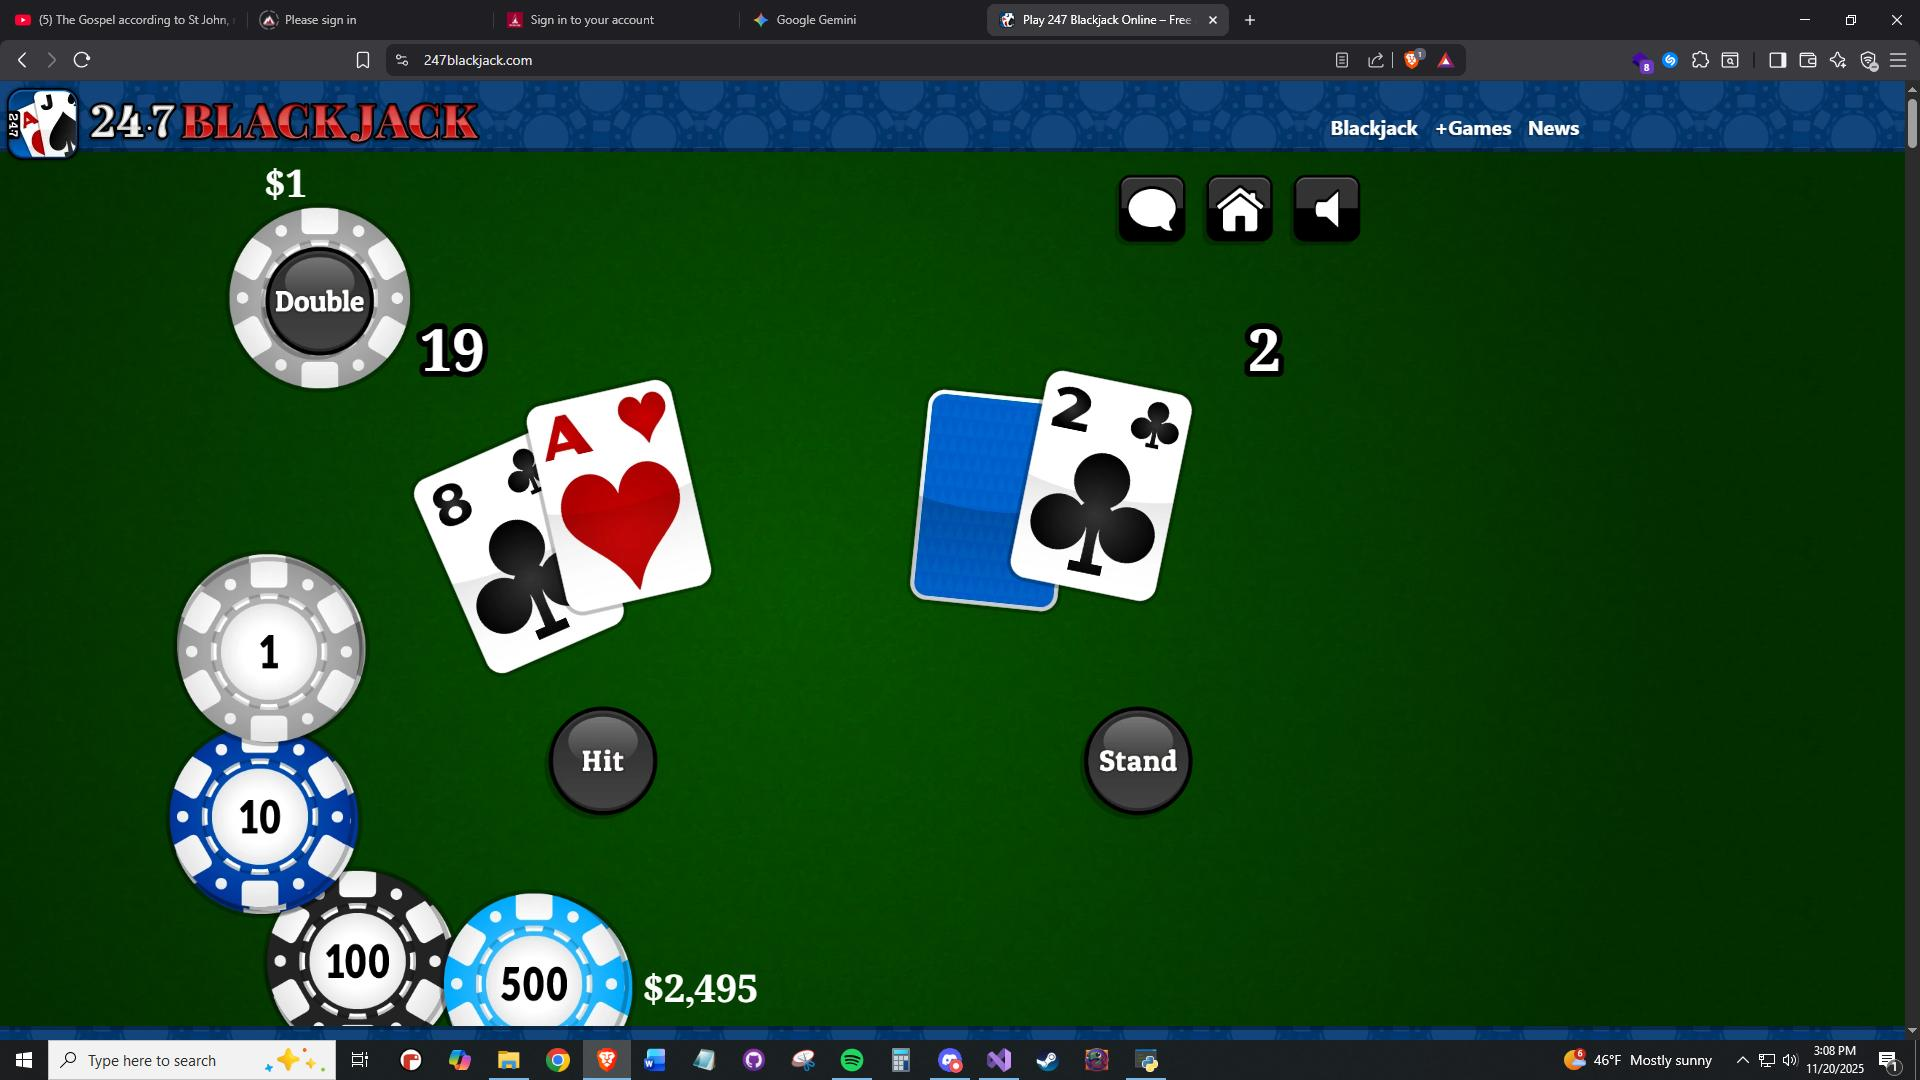2: (1009, 371, 1191, 600)
8: (414, 433, 622, 671)
A: (527, 380, 709, 609)
